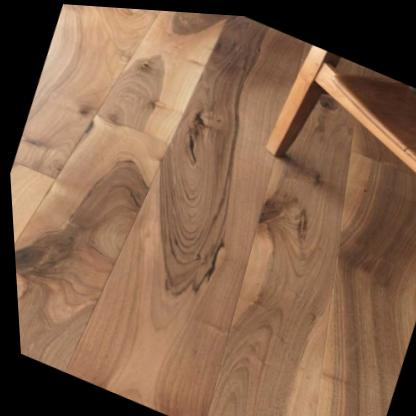Wooden floor: (8, 3, 416, 416)
